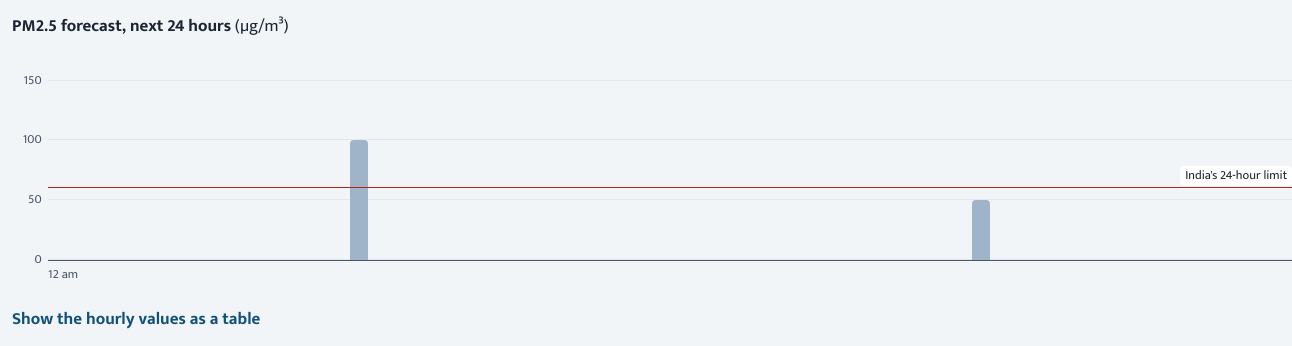
Scenario: OutlookChart › reads out the hour under the pointer
The width and height of the screenshot is (1292, 346).
Later steps or results of the test are not shown.
Hover over the 1st list item at {"x": 359, "y": 200}, box [350, 140, 368, 260]
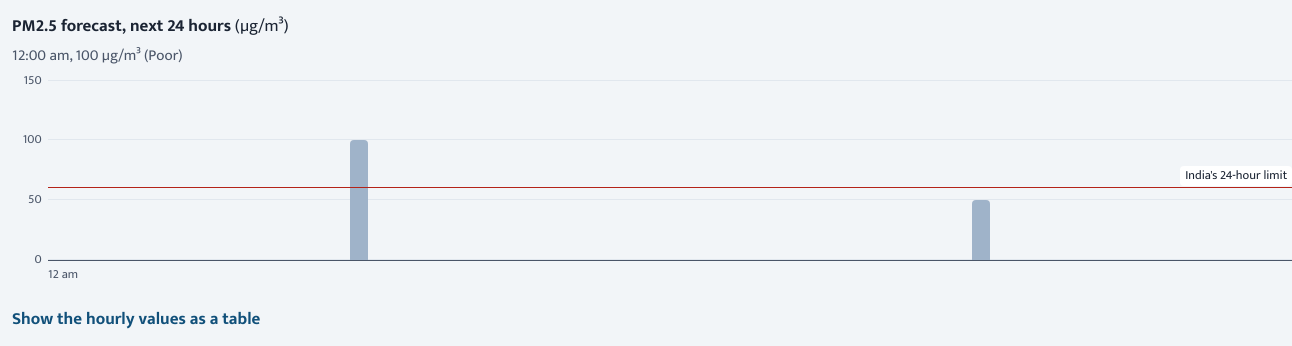
Check: the text with class "outlook-readout" reads "12:00 am, 100 µg/m³ (Poor)", box [12, 43, 183, 68]
